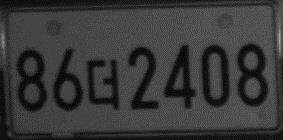0: (199, 42, 233, 108)
2: (126, 45, 159, 110)
4: (161, 44, 196, 110)
6: (49, 47, 85, 111)
8: (235, 43, 270, 106), (15, 48, 49, 112)
더: (85, 57, 121, 112)
